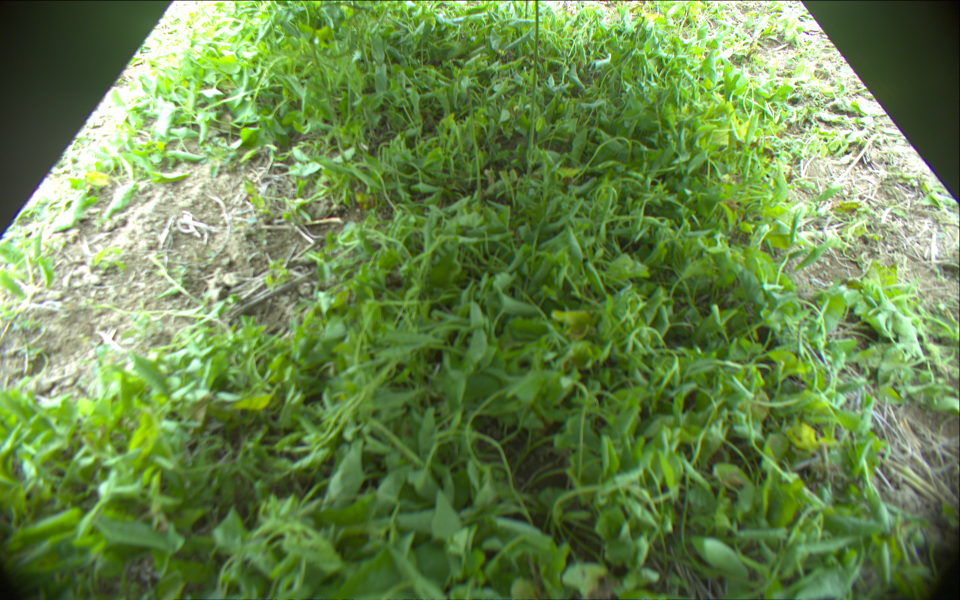aspa: (528, 1, 541, 155)
